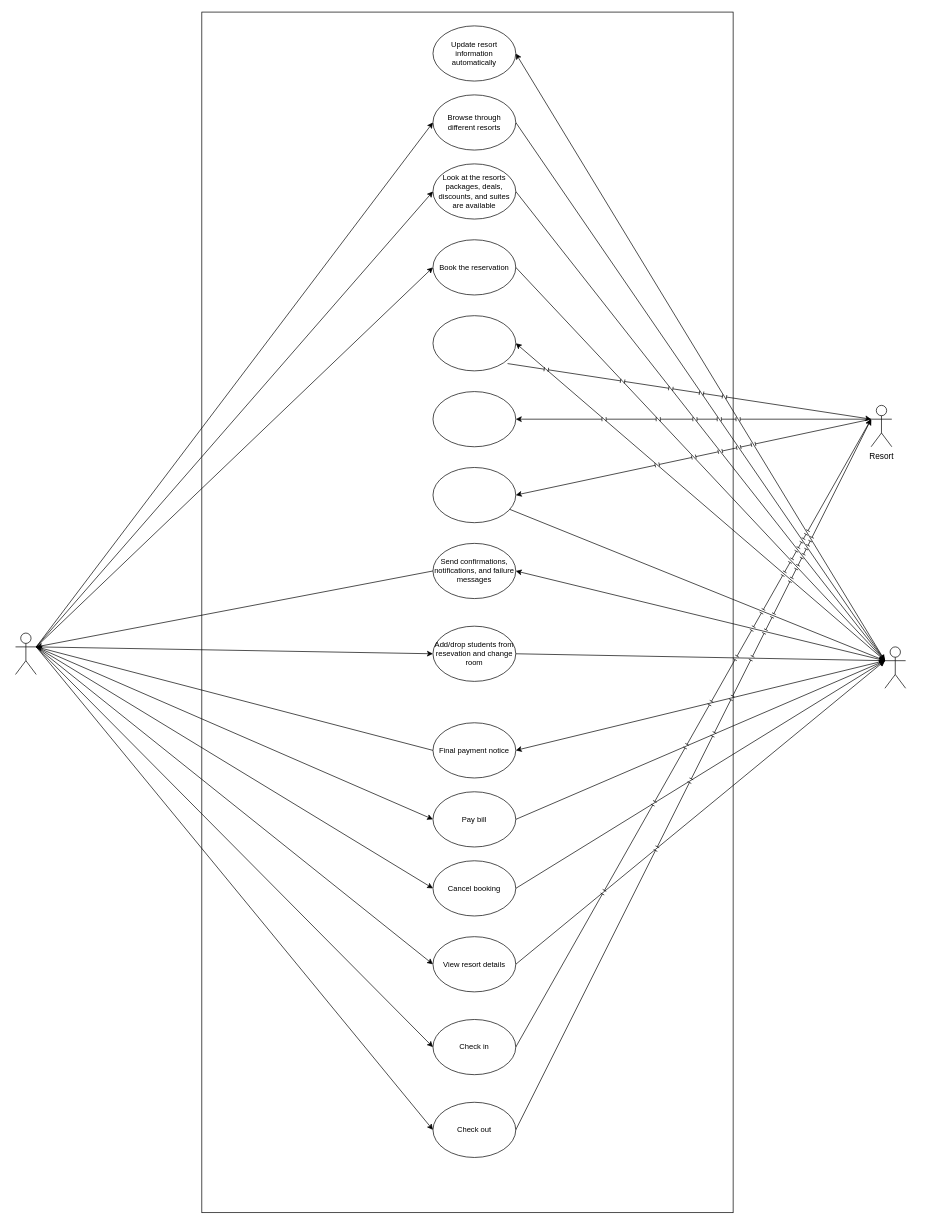
This 948x1225 diagram has some shape labels left out. The box of each missing label's shape, as (x1, y1, x2, y2) in pixels:
Handle internal processing, confirmations, and communications with resort: (432, 315, 516, 371)
Internal processing of booking and any changes: (432, 391, 516, 447)
SBRU Travel Services: (884, 646, 906, 688)
Send notifcations, confirmations, failures: (432, 467, 516, 523)
Student: (15, 632, 36, 674)
